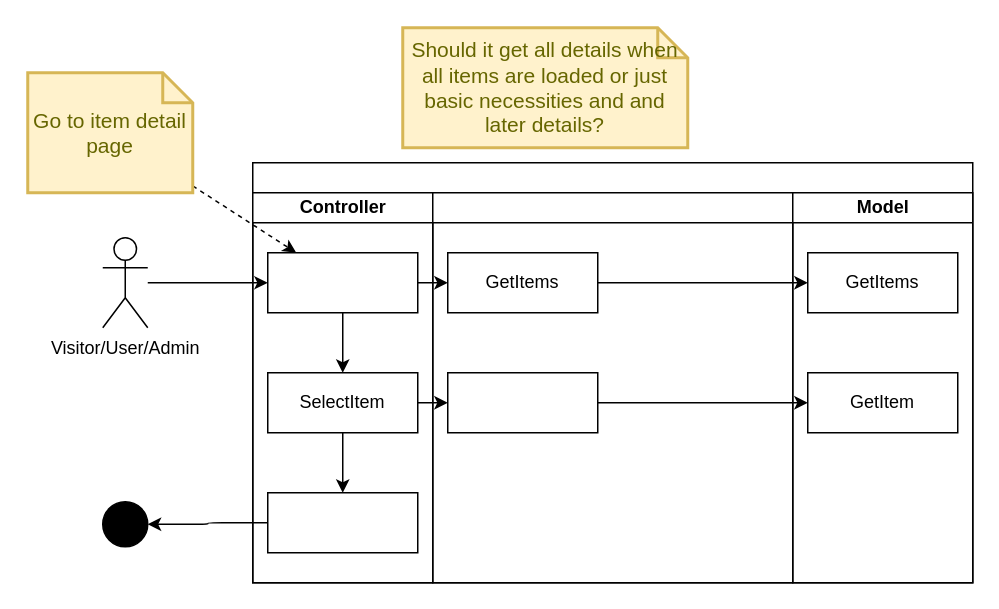
The diagram is 999 pixels wide and 609 high, and some of its shapes have lost their labels. Each missing label, with the box of its shape:
Business Logic: (431, 191, 793, 583)
GetItemDetails: (446, 371, 598, 433)
Initialize: (266, 251, 418, 313)
ShowItem: (266, 491, 418, 553)
